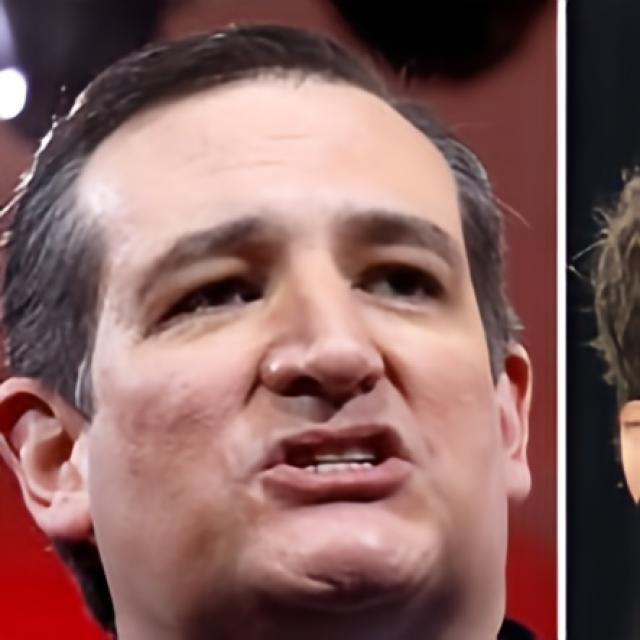disgust: (87, 64, 507, 640)
